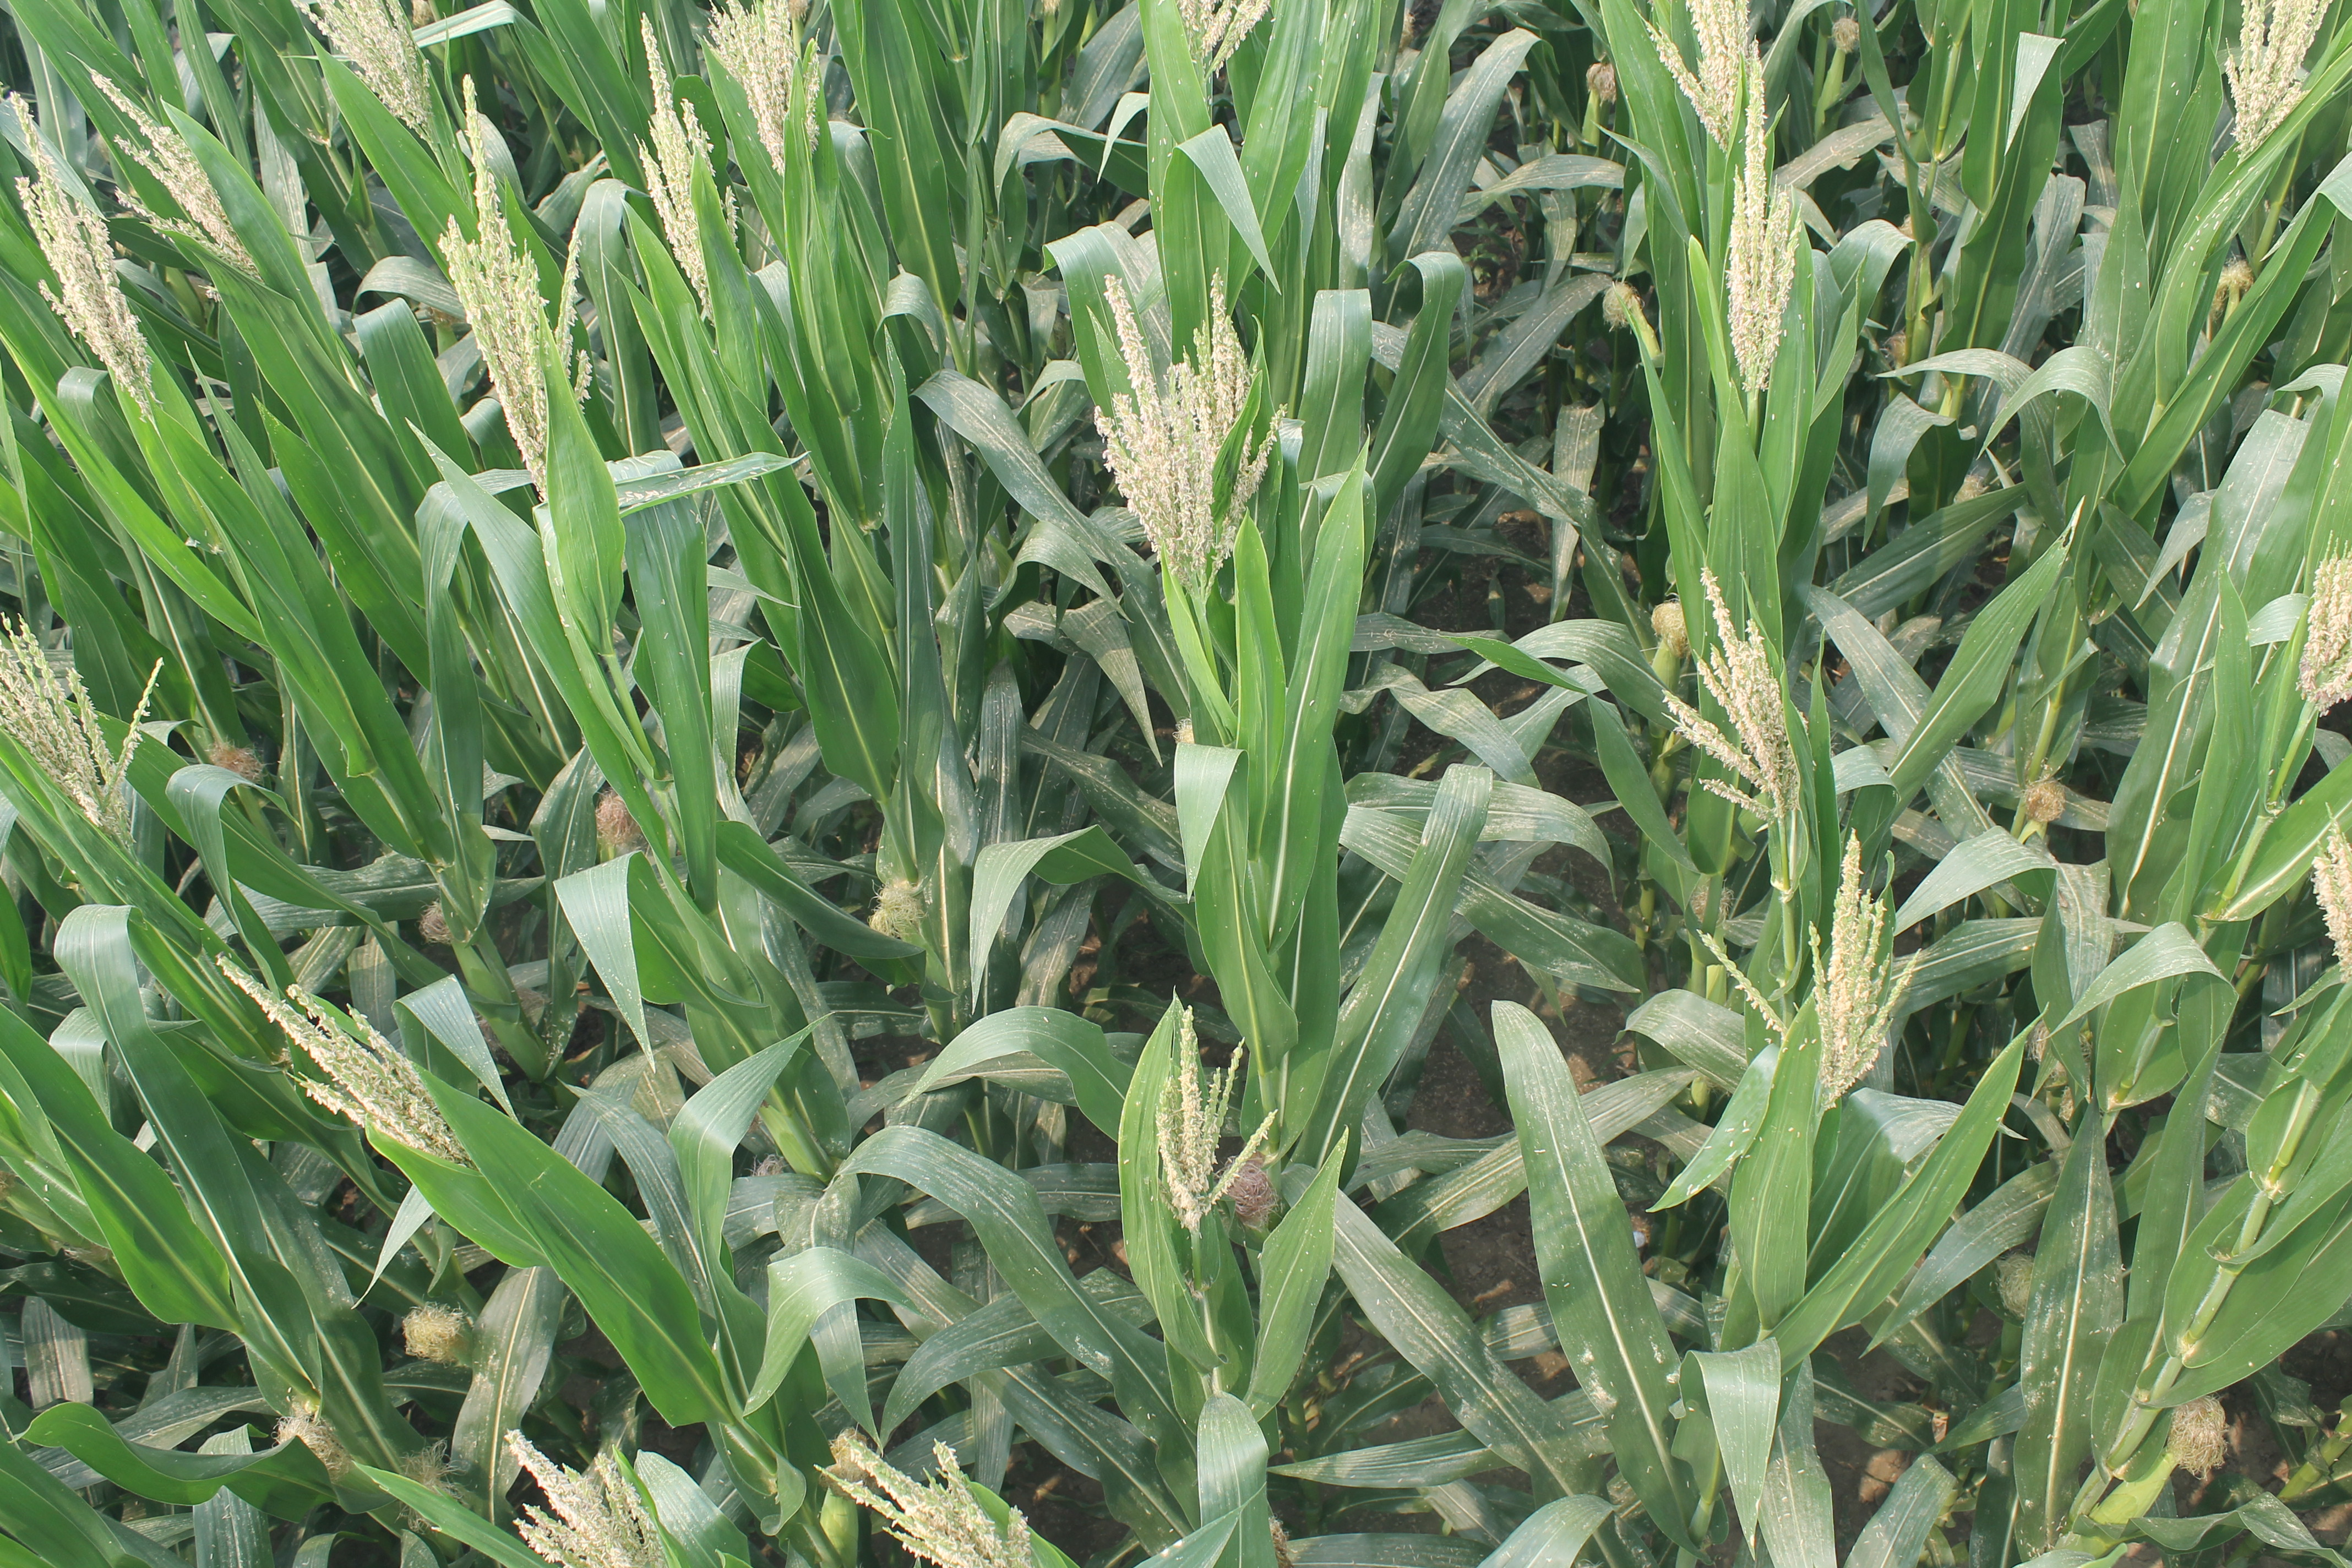Maize: (222, 934, 493, 1206), (1692, 847, 1935, 1130), (1097, 259, 1298, 593), (448, 89, 576, 502), (0, 609, 191, 828), (1132, 1003, 1298, 1241), (819, 1412, 1060, 1568), (1661, 577, 1808, 819), (12, 117, 128, 422), (140, 45, 287, 275), (1752, 73, 1864, 367), (488, 1416, 672, 1568), (619, 30, 710, 308), (2205, 0, 2352, 161), (728, 0, 854, 152), (2268, 509, 2352, 712), (1633, 0, 1745, 140), (322, 0, 437, 121), (1144, 0, 1270, 105), (2299, 828, 2352, 1034)
